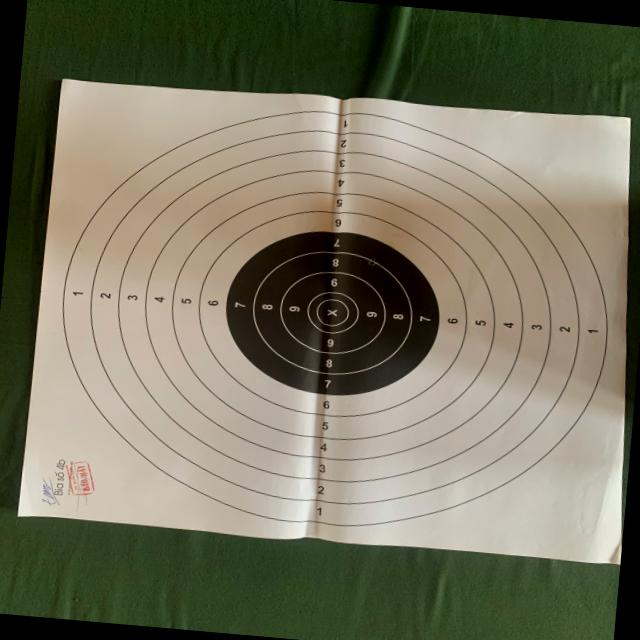bullet: (370, 260, 377, 267)
target: (18, 78, 631, 564)
